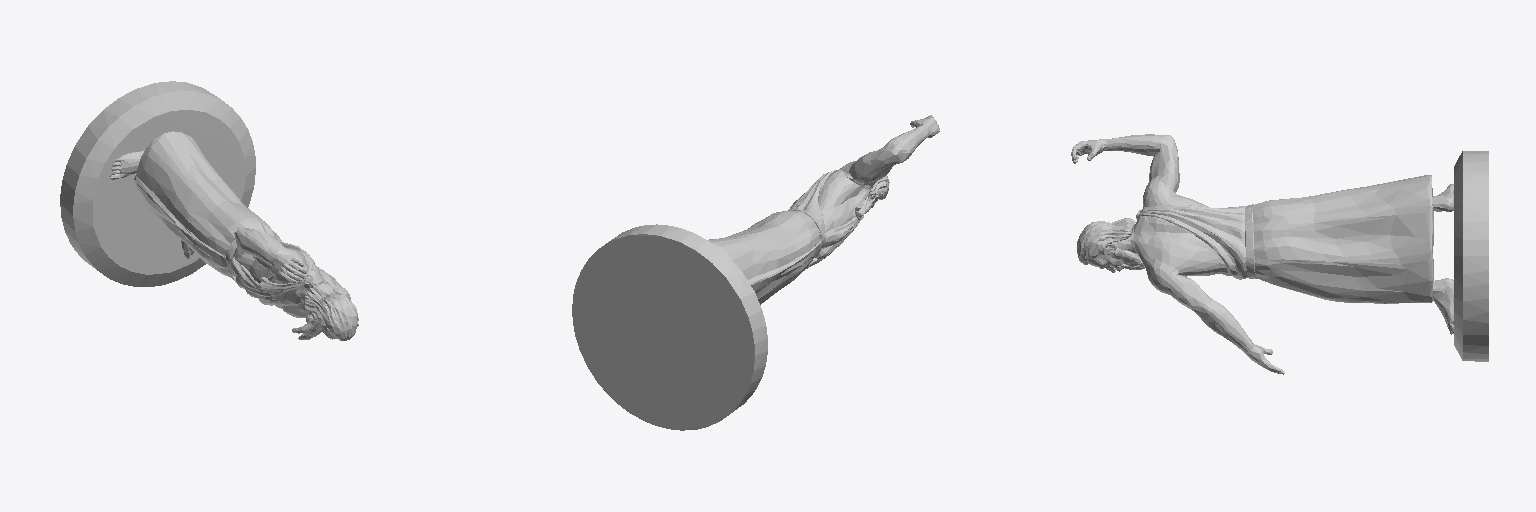
3 views of the same model, side by side, from view 1: azimuth 30°, elevation 25°; view 2: azimuth 150°, elevation 25°; view 3: azimuth 270°, elevation 25° (orthographic).
Parts seen in each view (by area): view 1: 21521_Greek_God.001; view 2: 21521_Greek_God.001; view 3: 21521_Greek_God.001.
Part boxes in pixels (x1,y1,x2,y2): 21521_Greek_God.001: (60,81,358,340); 21521_Greek_God.001: (572,115,939,430); 21521_Greek_God.001: (1071,134,1488,374).
Size of the model in its own units: 0.4198 by 0.4196 by 0.83.